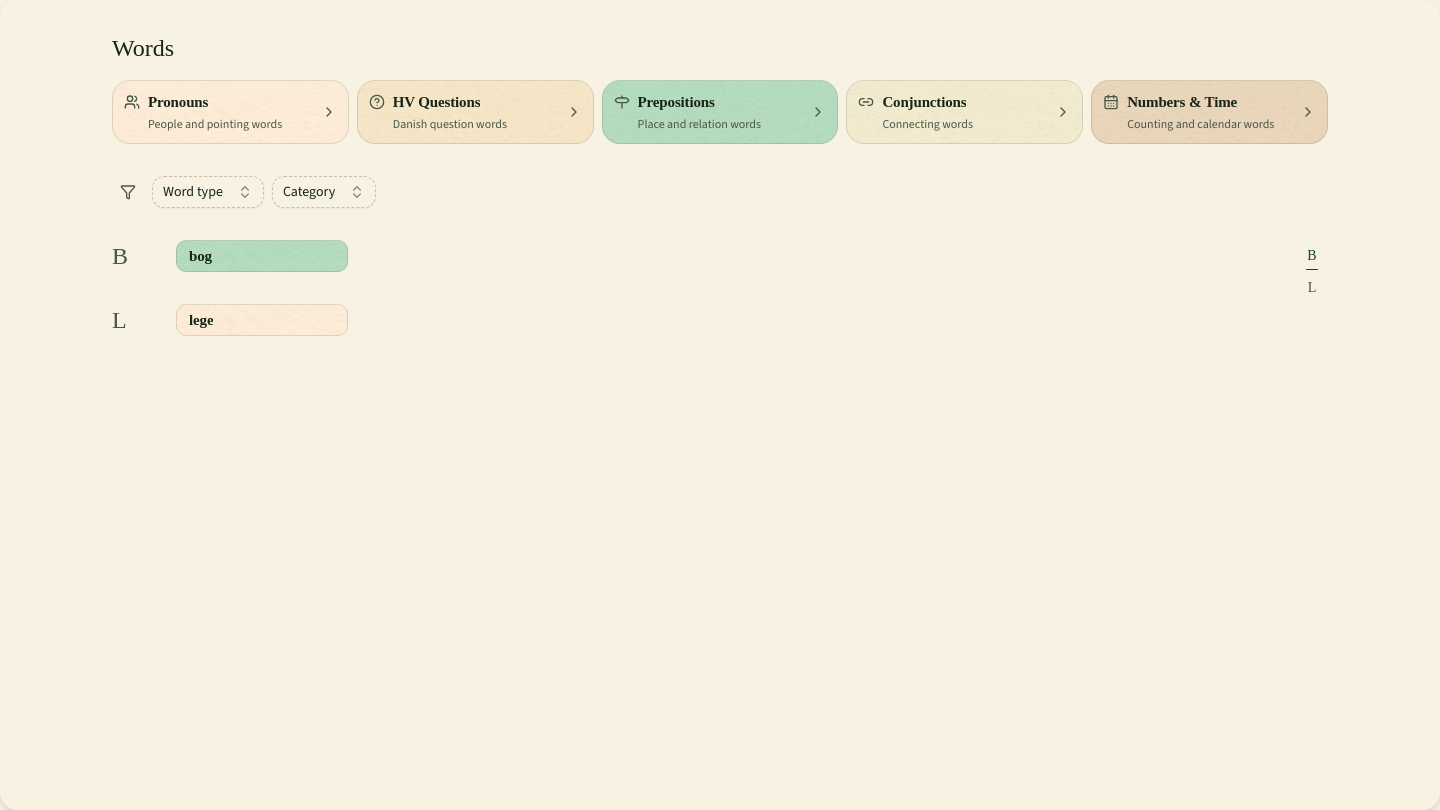
Test: App wordbank filters › filters lemmas by word type while keeping multi-POS lemmas visible
The width and height of the screenshot is (1440, 810).
Click the button "Word type" at (208, 192), box top-left (152, 176), bottom-right (264, 208)
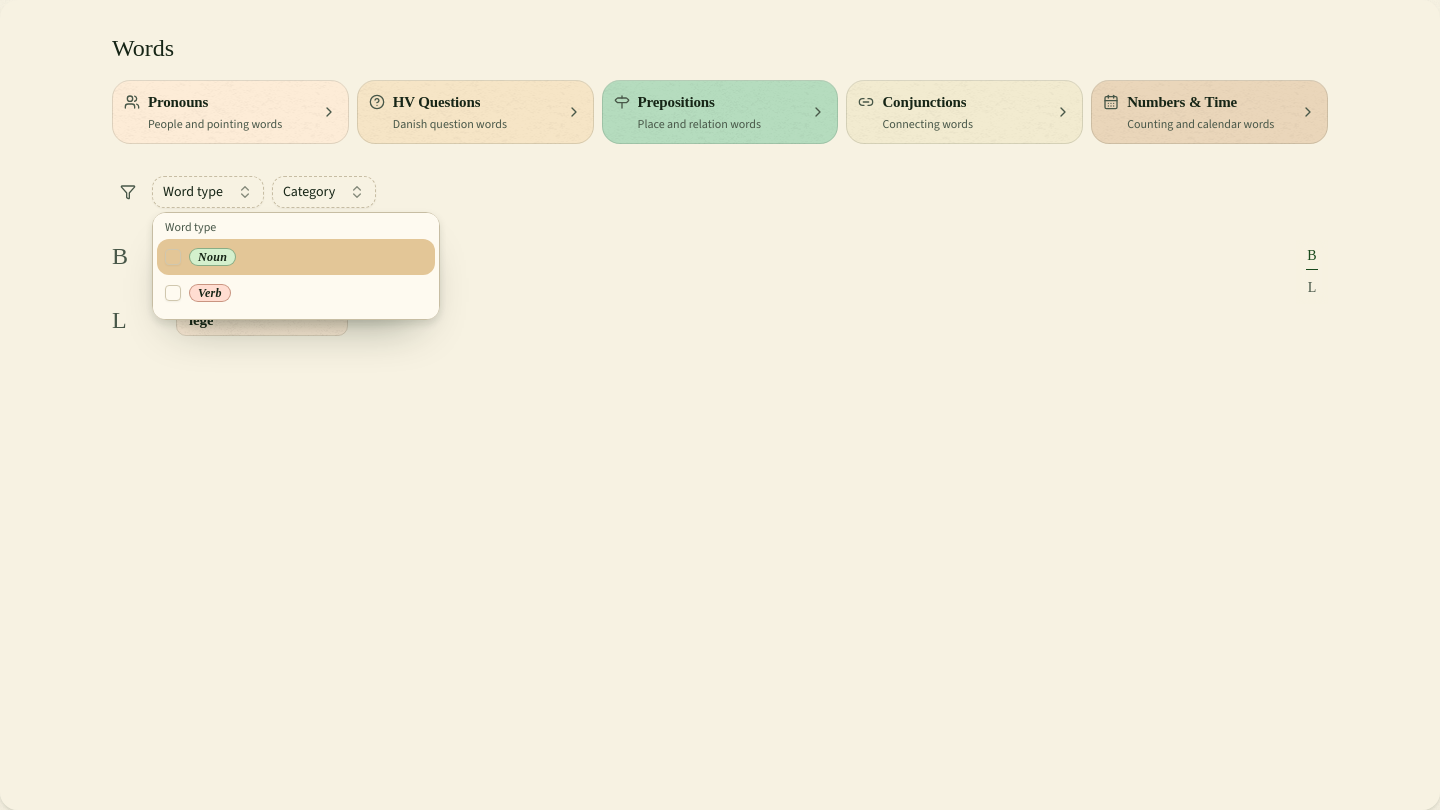
Click the option "Verb" at (198, 293), box top-left (165, 284), bottom-right (231, 302)
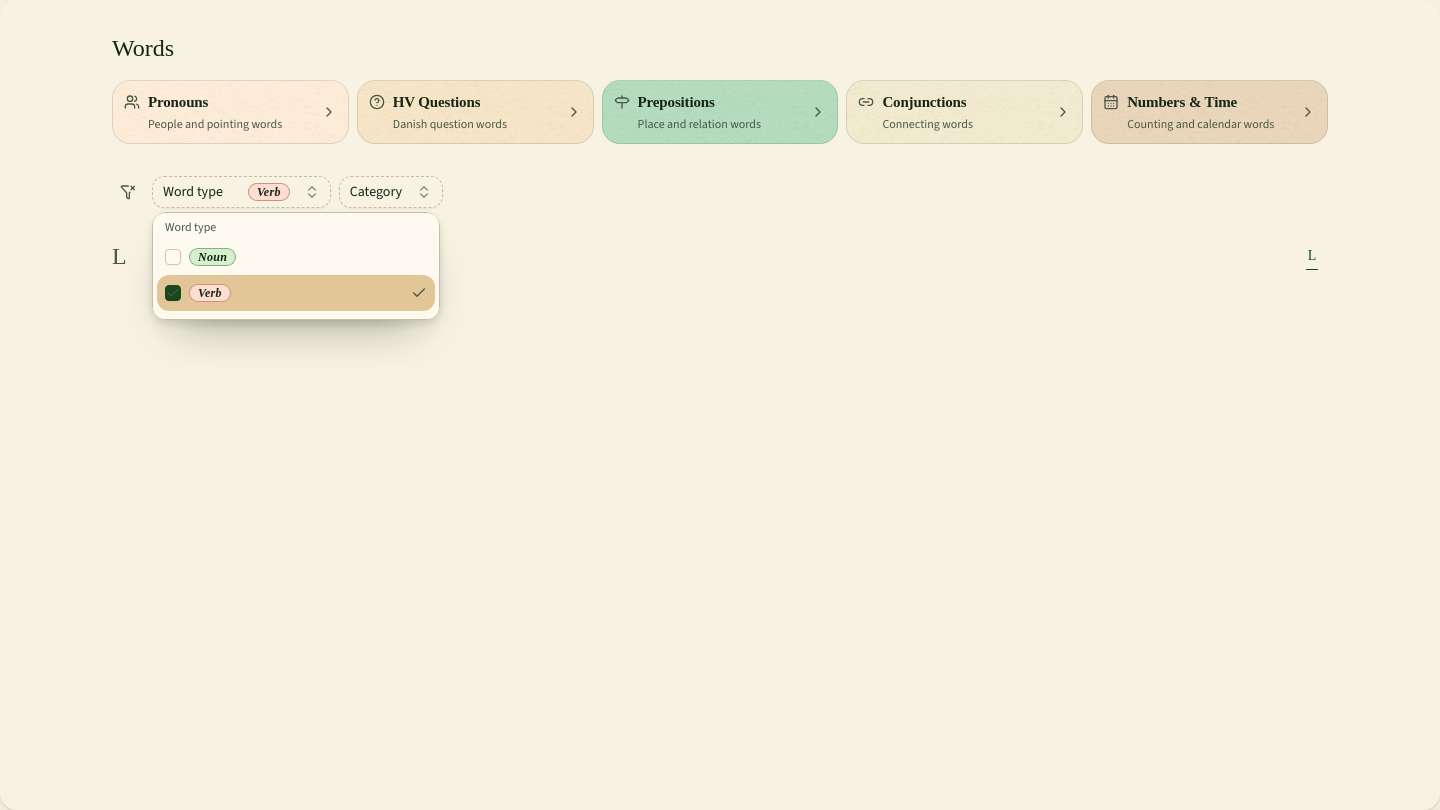
Expected: the button "lege" is shown, top-left (176, 240), bottom-right (348, 272)
Expected: the button "bog" is gone
